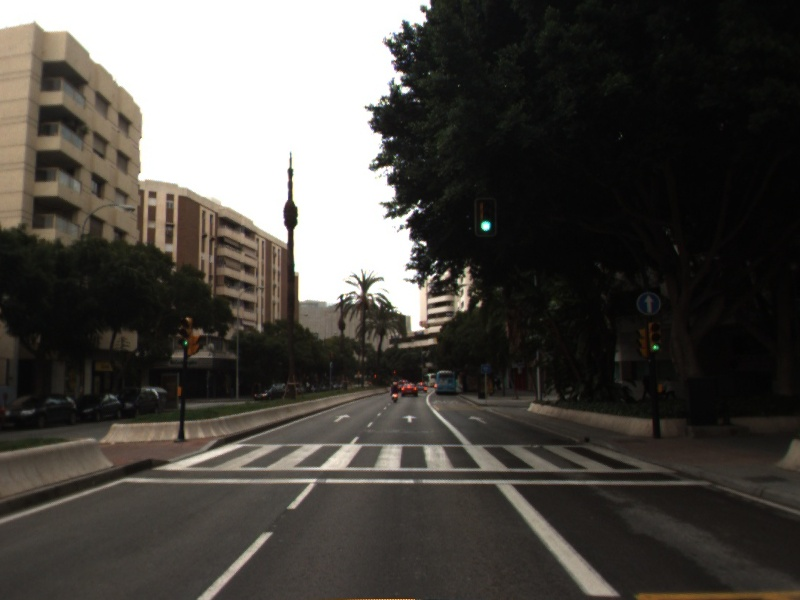STRAIGHT: (466, 413, 490, 426), (331, 412, 353, 424), (400, 413, 420, 424)
